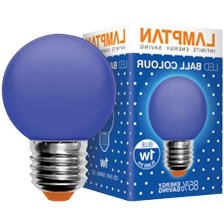book: (77, 19, 223, 207)
light_bulb: (0, 24, 121, 204)
